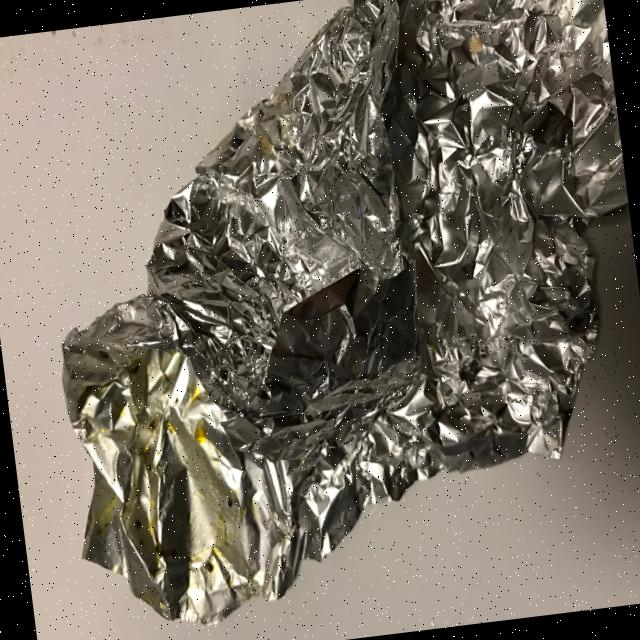metal: (16, 0, 640, 639)
